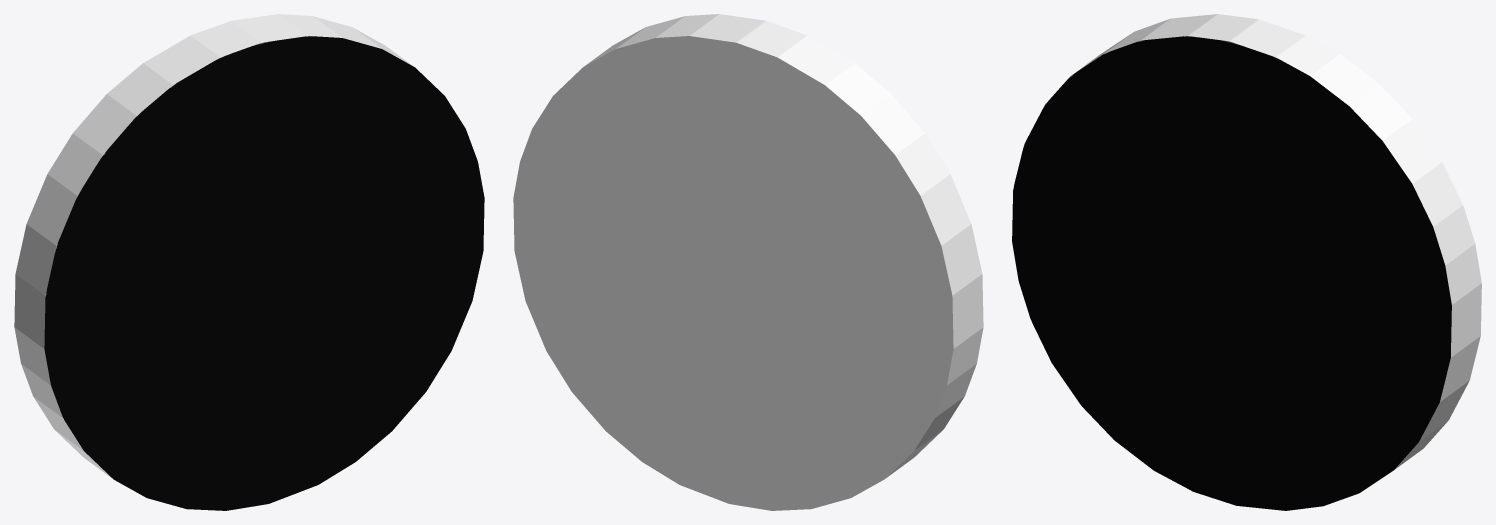
3 views of the same model, side by side, from view 1: azimuth 30°, elevation 25°; view 2: azimuth 150°, elevation 25°; view 3: azimuth 330°, elevation 25° (orthographic).
Parts seen in each view (by area): view 1: Object.1; view 2: Object.1; view 3: Object.1.
Boxes of the visible parts, <box> form: Object.1: <box>14,14,484,510</box>; Object.1: <box>513,14,983,510</box>; Object.1: <box>1012,14,1481,510</box>.
Size of the model in its own units: 102 by 102 by 12.
